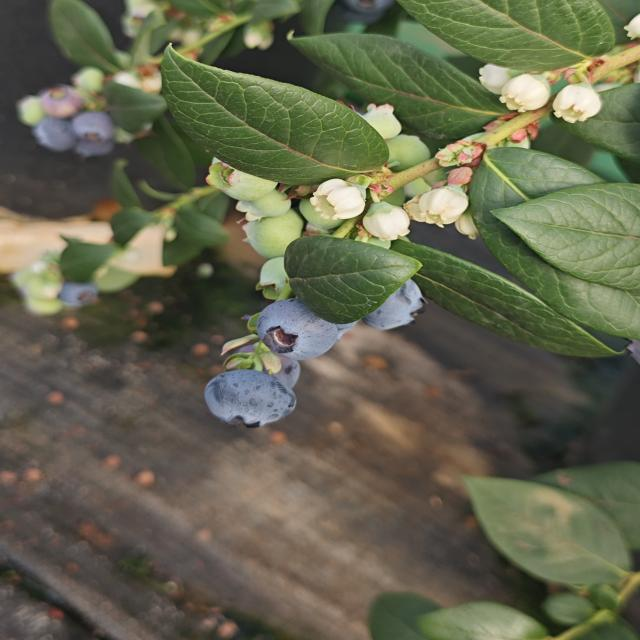ripe: (203, 356, 306, 428), (346, 256, 435, 334), (253, 288, 349, 359), (328, 0, 402, 33), (28, 114, 78, 152), (52, 278, 102, 315), (70, 128, 121, 162), (73, 106, 116, 140)
